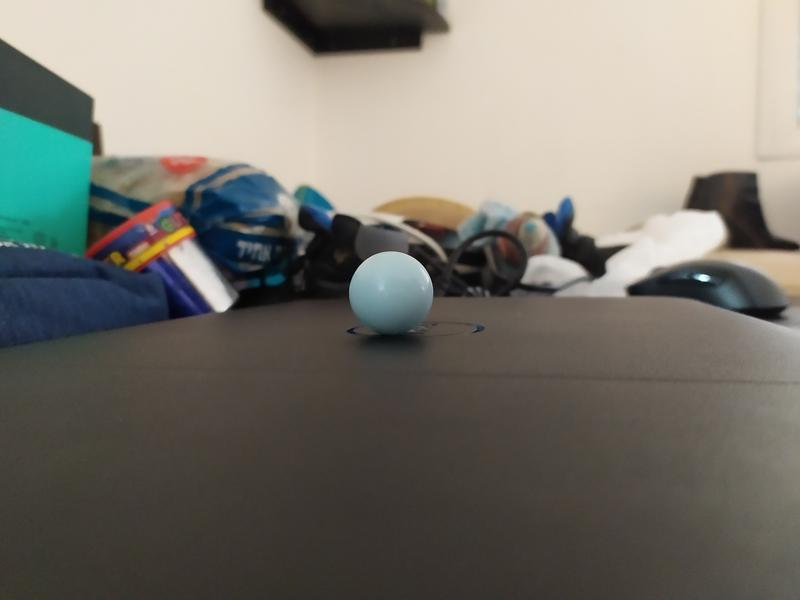Warning: (345, 248, 436, 338)
